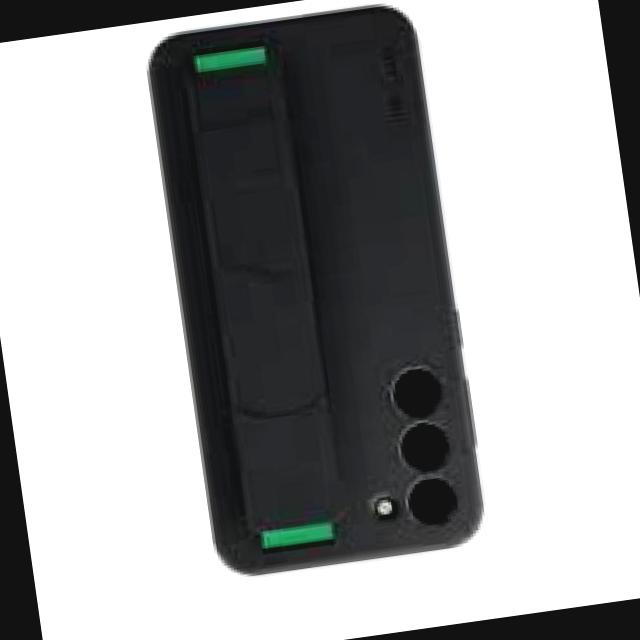lens_back: (382, 357, 447, 422), (400, 469, 463, 532), (392, 416, 453, 476)
phone: (136, 0, 490, 586)
